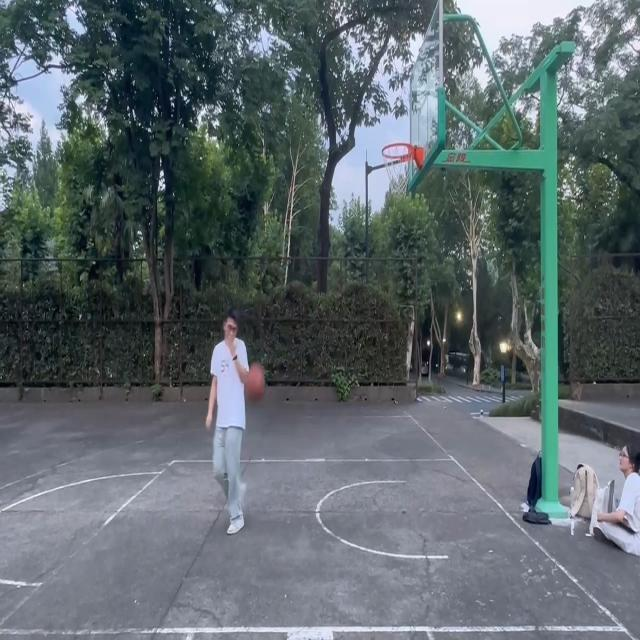basketball: (381, 144, 426, 198)
rim: (246, 365, 266, 402)
